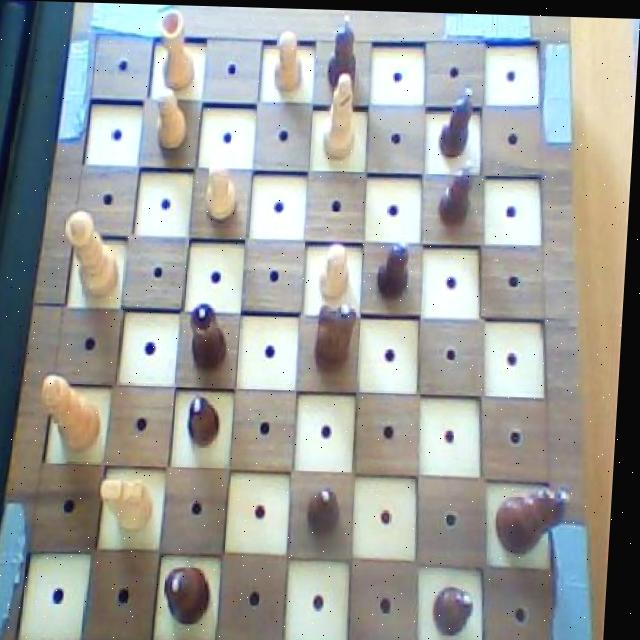black-bishop: (500, 475, 580, 557)
black-king: (310, 295, 365, 378)
black-knight: (435, 78, 483, 158), (434, 154, 480, 229), (375, 232, 419, 301), (327, 9, 362, 87), (439, 579, 484, 638), (307, 480, 352, 539), (188, 393, 228, 448)
black-pawn: (168, 560, 219, 624)
black-queen: (190, 297, 237, 373)
black-rook: (320, 65, 367, 162)
white-bishop: (40, 369, 109, 457)
white-king: (99, 472, 164, 534)
white-knight: (314, 235, 360, 303), (154, 82, 195, 152), (204, 155, 245, 223), (272, 25, 310, 91)
white-pawn: (64, 207, 129, 302)
white-queen: (154, 4, 202, 91)
